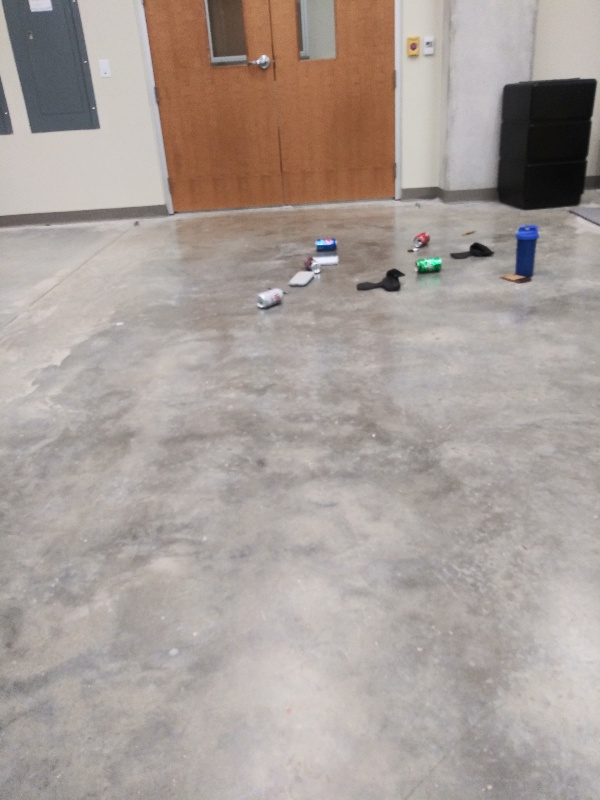can: (253, 286, 287, 311), (413, 255, 445, 274), (411, 230, 433, 250), (301, 256, 324, 275), (315, 238, 339, 251)
